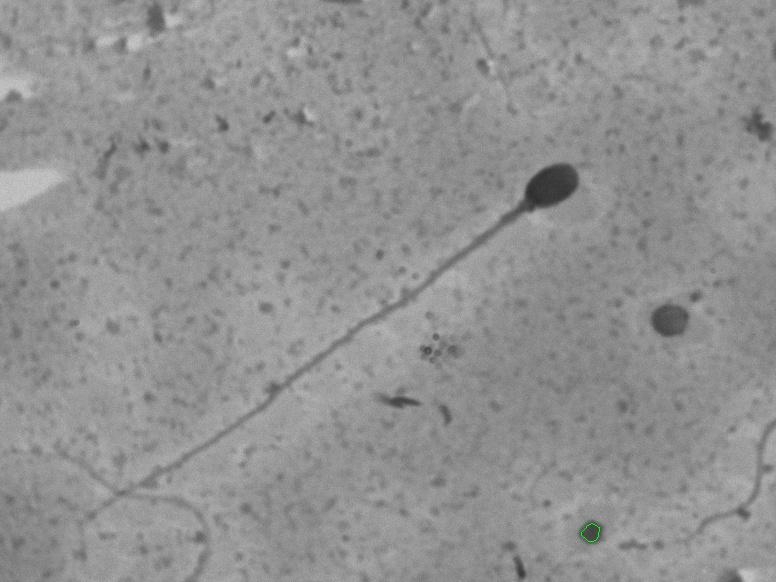Normal: (70, 125, 621, 551)
